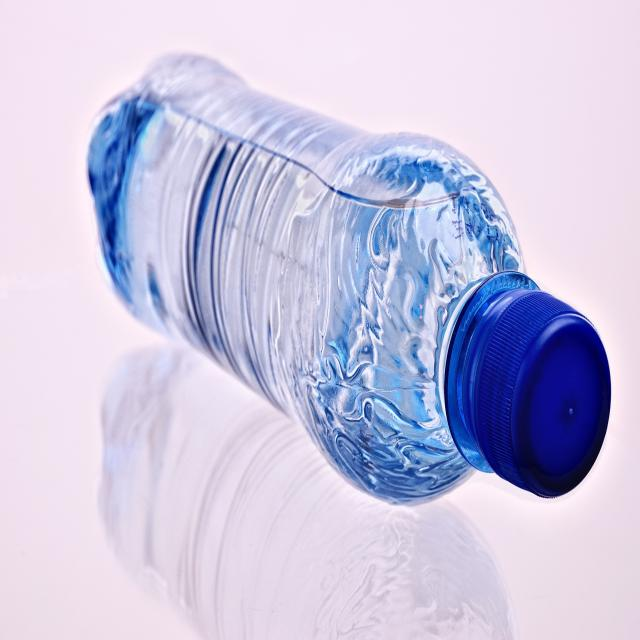blue_bottle: (78, 39, 625, 537)
